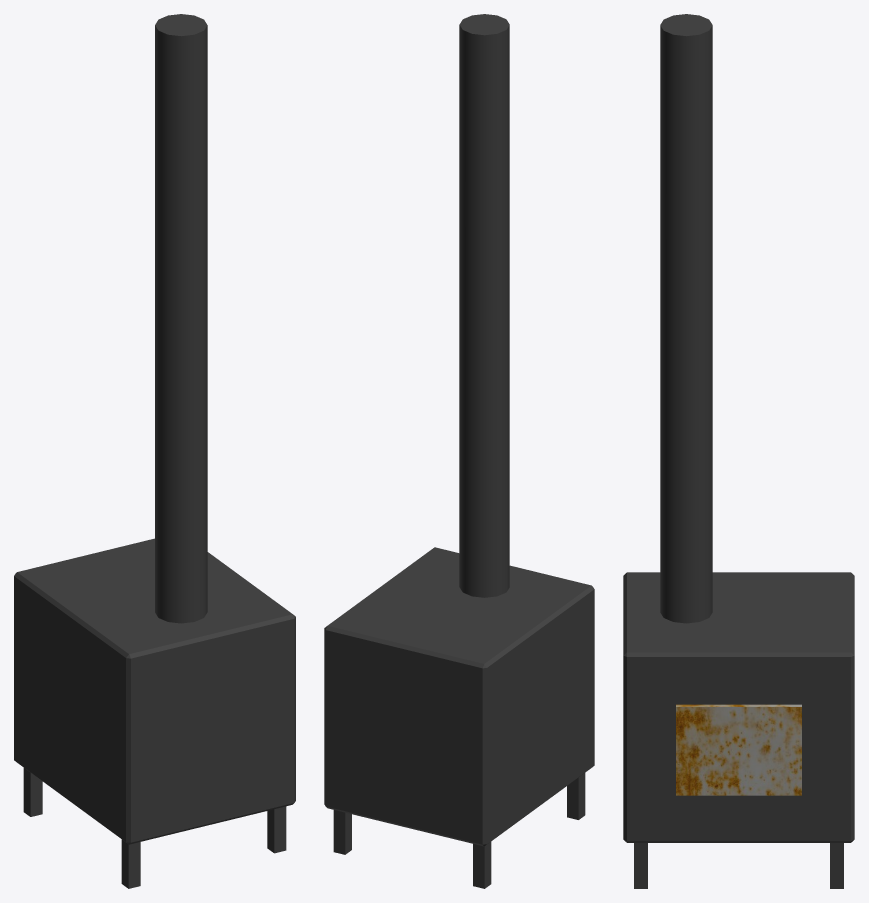
Rendered from wood_stove.glb.
3 renders of one model, left to right at view 1: azimuth 30°, elevation 25°; view 2: azimuth 150°, elevation 25°; view 3: azimuth 270°, elevation 25°, orthographic. The views are drawn at different scales.
Parts seen in each view (by area): view 1: wood_stove; view 2: wood_stove; view 3: wood_stove.
Part boxes in pixels (x1=…): wood_stove: x1=14, y1=14, x2=295, y2=888; wood_stove: x1=324, y1=14, x2=594, y2=888; wood_stove: x1=623, y1=14, x2=854, y2=888.
Bounding box in the file's own units: 0.575 × 2.6 × 0.66.
2 materials, 1 textured.
